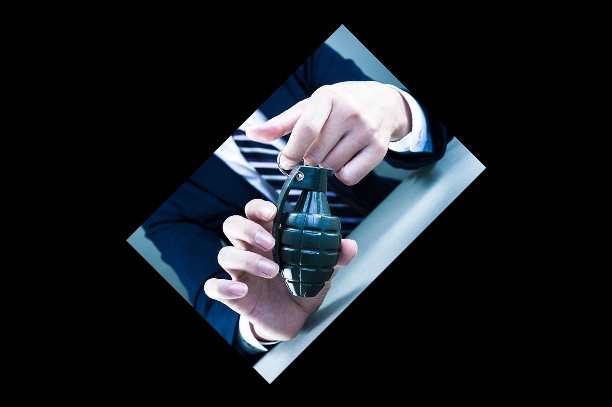e1: (263, 150, 343, 302)
